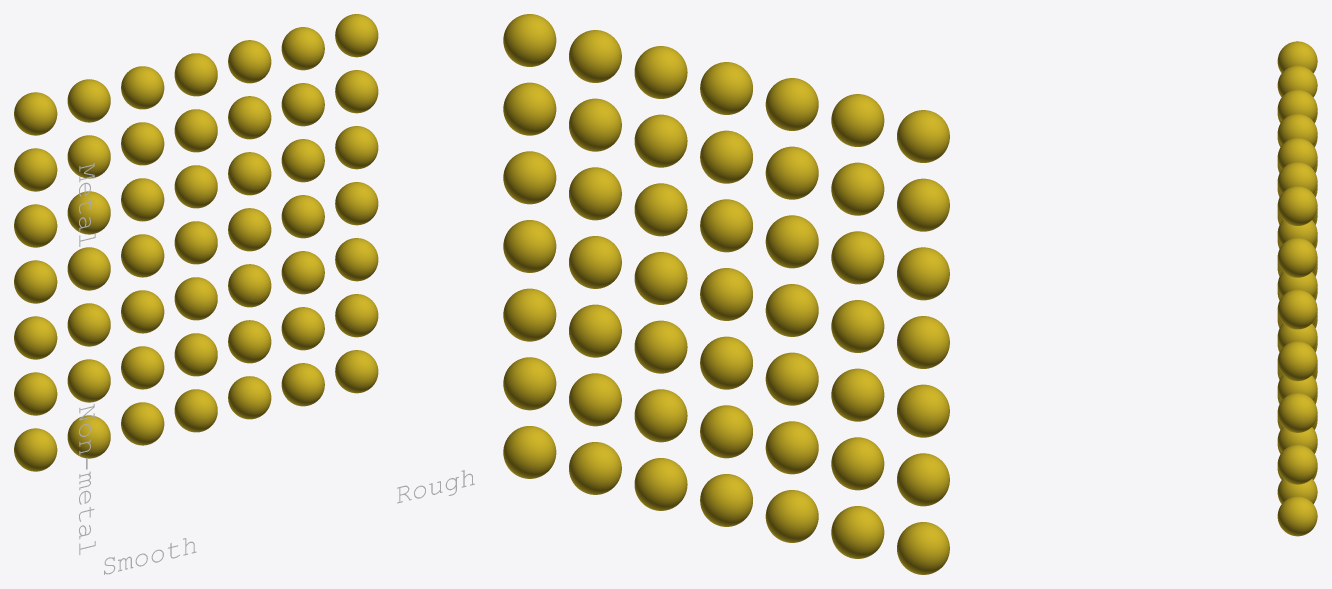
Rendered from MetalRoughSpheresNoTextures yellow.gltf.
The picture shows the model from 3 angles, left to right: view 1: azimuth 30°, elevation 25°; view 2: azimuth 150°, elevation 25°; view 3: azimuth 270°, elevation 25°; orthographic projection. The views are drawn at different scales.
Visible parts, largest first — view 1: g_m0%_r0%, g_m33%_r33%, g_m50%_r33%, g_m100%_r0%, g_m0%_r33%, g_m0%_r66%, g_m16%_r0%, g_m16%_r33%, g_m66%_r33%, g_m83%_r0%, g_m83%_r33%, g_m33%_r0% (+38 smaller); view 2: g_m50%_r66%, g_m100%_r66%, g_m0%_r66%, g_m33%_r100%, g_m66%_r0%, g_m16%_r0%, g_m16%_r16%, g_m33%_r16%, g_m33%_r83%, g_m66%_r16%, g_m66%_r33%, g_m66%_r100% (+37 smaller); view 3: g_m66%_r100%, g_m0%_r100%, g_m16%_r100%, g_m33%_r100%, g_m50%_r100%, g_m100%_r100%, g_m83%_r100%, g_m100%_r0%, g_m100%_r16%, g_m100%_r33%, g_m100%_r50%, g_m100%_r66% (+7 smaller).
Boxes of the visible parts, x1=… form: g_m0%_r0%: x1=14, y1=428, x2=57, y2=471; g_m33%_r33%: x1=121, y1=290, x2=164, y2=333; g_m50%_r33%: x1=121, y1=234, x2=164, y2=277; g_m100%_r0%: x1=14, y1=92, x2=57, y2=135; g_m0%_r33%: x1=121, y1=402, x2=164, y2=445; g_m0%_r66%: x1=228, y1=376, x2=271, y2=419; g_m16%_r0%: x1=14, y1=372, x2=57, y2=415; g_m16%_r33%: x1=121, y1=346, x2=164, y2=389; g_m66%_r33%: x1=121, y1=178, x2=164, y2=221; g_m83%_r0%: x1=14, y1=148, x2=57, y2=191; g_m83%_r33%: x1=121, y1=122, x2=164, y2=165; g_m33%_r0%: x1=14, y1=316, x2=57, y2=359; g_m50%_r66%: x1=634, y1=252, x2=687, y2=304; g_m100%_r66%: x1=634, y1=46, x2=687, y2=98; g_m0%_r66%: x1=634, y1=458, x2=687, y2=510; g_m33%_r100%: x1=503, y1=288, x2=556, y2=341; g_m66%_r0%: x1=897, y1=247, x2=949, y2=300; g_m16%_r0%: x1=897, y1=453, x2=949, y2=506; g_m16%_r16%: x1=831, y1=437, x2=884, y2=490; g_m33%_r16%: x1=831, y1=368, x2=884, y2=421; g_m33%_r83%: x1=569, y1=304, x2=621, y2=357; g_m66%_r16%: x1=831, y1=231, x2=884, y2=284; g_m66%_r33%: x1=765, y1=215, x2=818, y2=268; g_m66%_r100%: x1=503, y1=151, x2=556, y2=204; g_m66%_r100%: x1=1277, y1=289, x2=1317, y2=329; g_m0%_r100%: x1=1277, y1=496, x2=1317, y2=536; g_m16%_r100%: x1=1277, y1=444, x2=1317, y2=484; g_m33%_r100%: x1=1277, y1=393, x2=1317, y2=432; g_m50%_r100%: x1=1277, y1=341, x2=1317, y2=381; g_m100%_r100%: x1=1277, y1=186, x2=1317, y2=225; g_m83%_r100%: x1=1277, y1=238, x2=1317, y2=277; g_m100%_r0%: x1=1277, y1=41, x2=1317, y2=73; g_m100%_r16%: x1=1277, y1=65, x2=1317, y2=97; g_m100%_r33%: x1=1277, y1=89, x2=1317, y2=121; g_m100%_r50%: x1=1277, y1=113, x2=1317, y2=145; g_m100%_r66%: x1=1277, y1=138, x2=1317, y2=169.
Bounding box in the file's own units: 0.0074 × 0.0075 × 0.00335.
